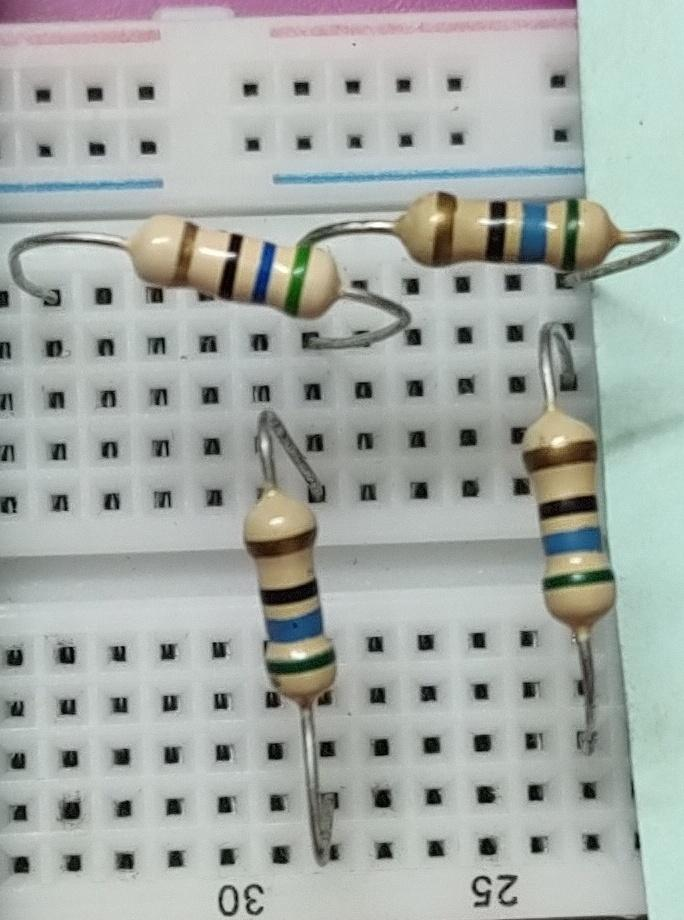resistor: (119, 201, 344, 332), (511, 403, 631, 643), (387, 181, 627, 289), (239, 483, 352, 712)
